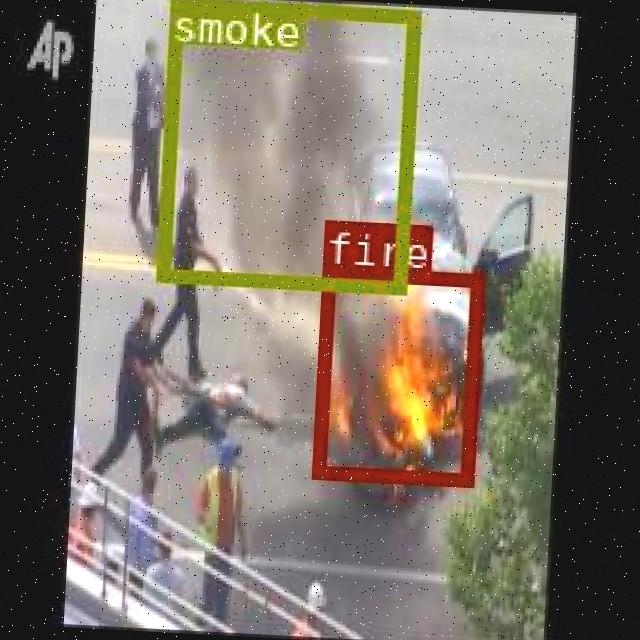fire: (311, 265, 480, 485)
smoke: (153, 0, 416, 291)
